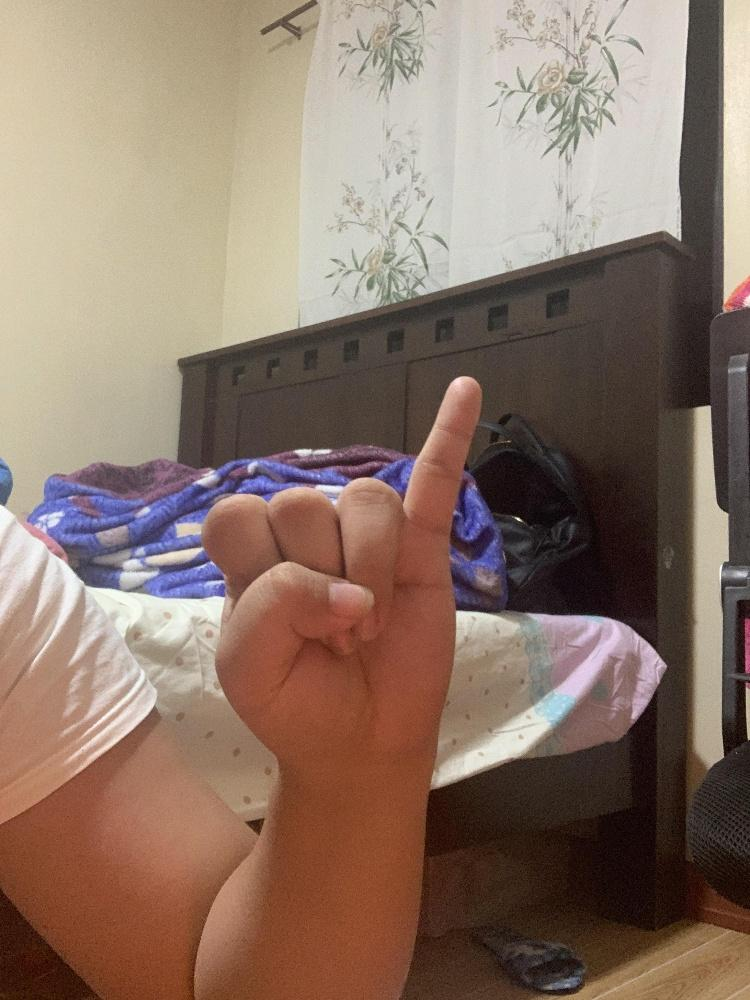i: (200, 371, 486, 763)
